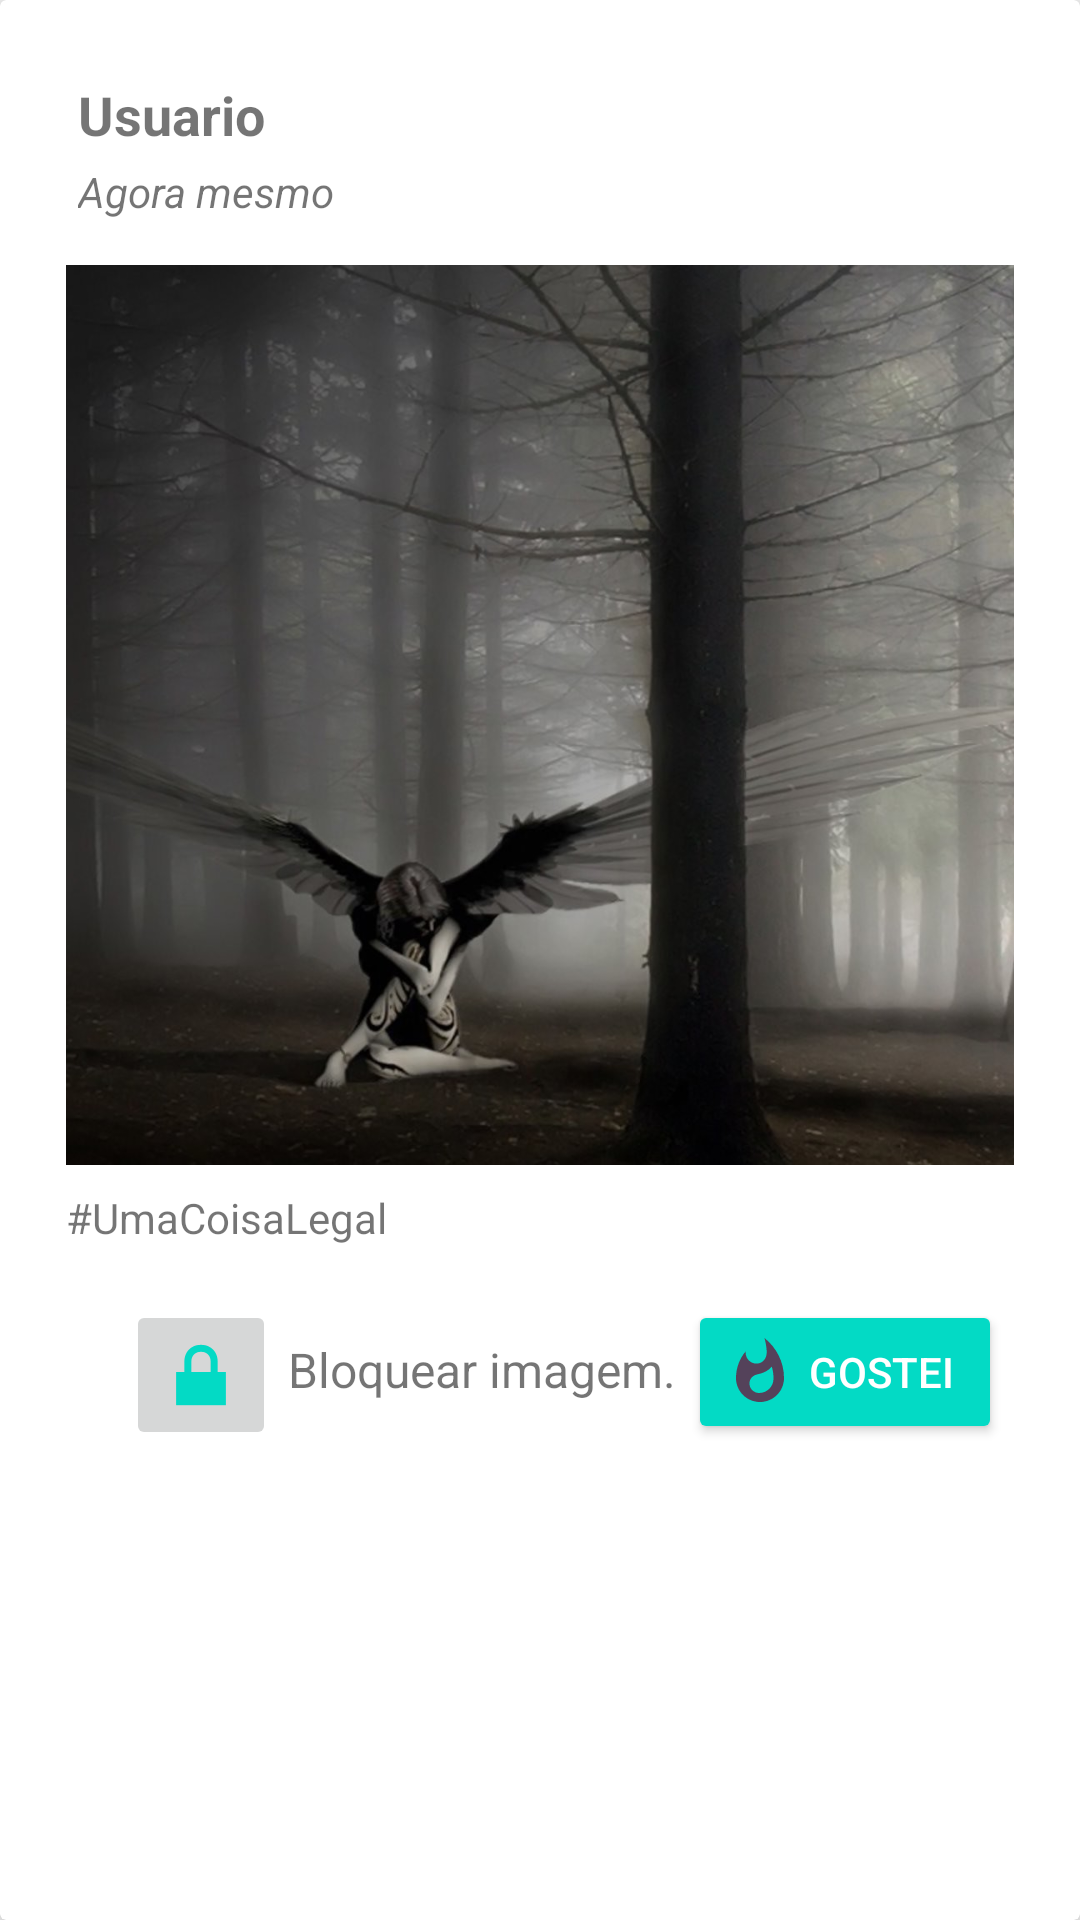

Where to tap for icons on this 1080px×1920px app screen, as (x,y):
lock: (201,1375)
